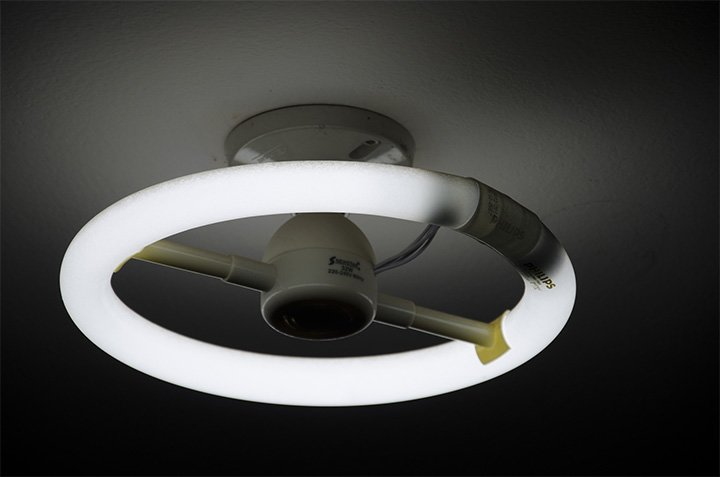Light_bulb: (52, 153, 584, 414)
